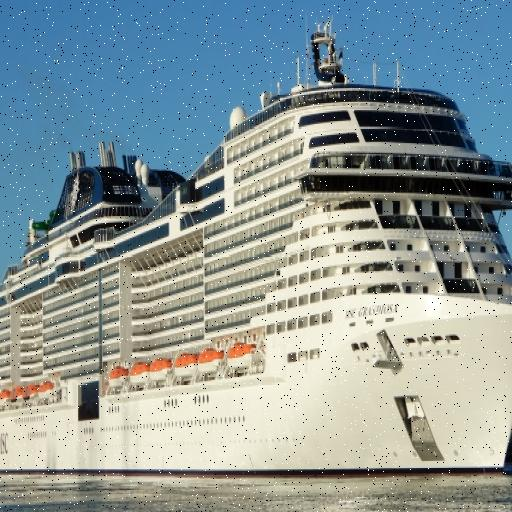cruises: (1, 21, 512, 486)
